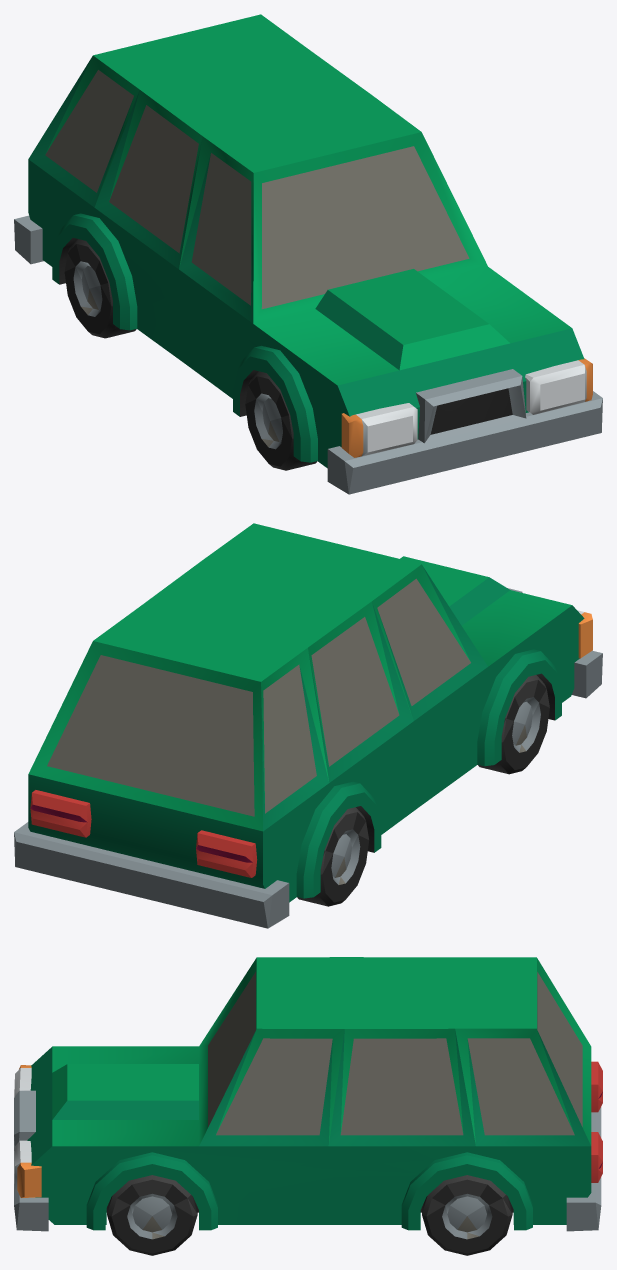
The model's file is prop-car-estate-D4oh2vzK.glb.
3 views of the same model, one above another, from view 1: azimuth 30°, elevation 25°; view 2: azimuth 150°, elevation 25°; view 3: azimuth 270°, elevation 25° (orthographic). The views are drawn at different scales.
Parts seen in each view (by area): view 1: car-estate (×2); view 2: car-estate (×2); view 3: car-estate (×2).
Part boxes in pixels (bbox=[...]): car-estate (×2): bbox=[14, 14, 602, 494]; car-estate (×2): bbox=[14, 523, 602, 928]; car-estate (×2): bbox=[14, 957, 602, 1255].
Bounding box in the file's own units: 0.419 × 0.3688 × 0.9381.
